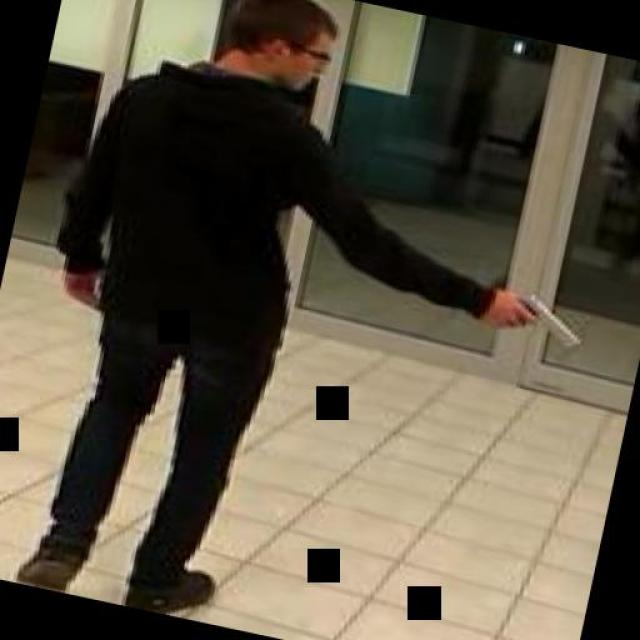gun: (474, 279, 588, 350)
